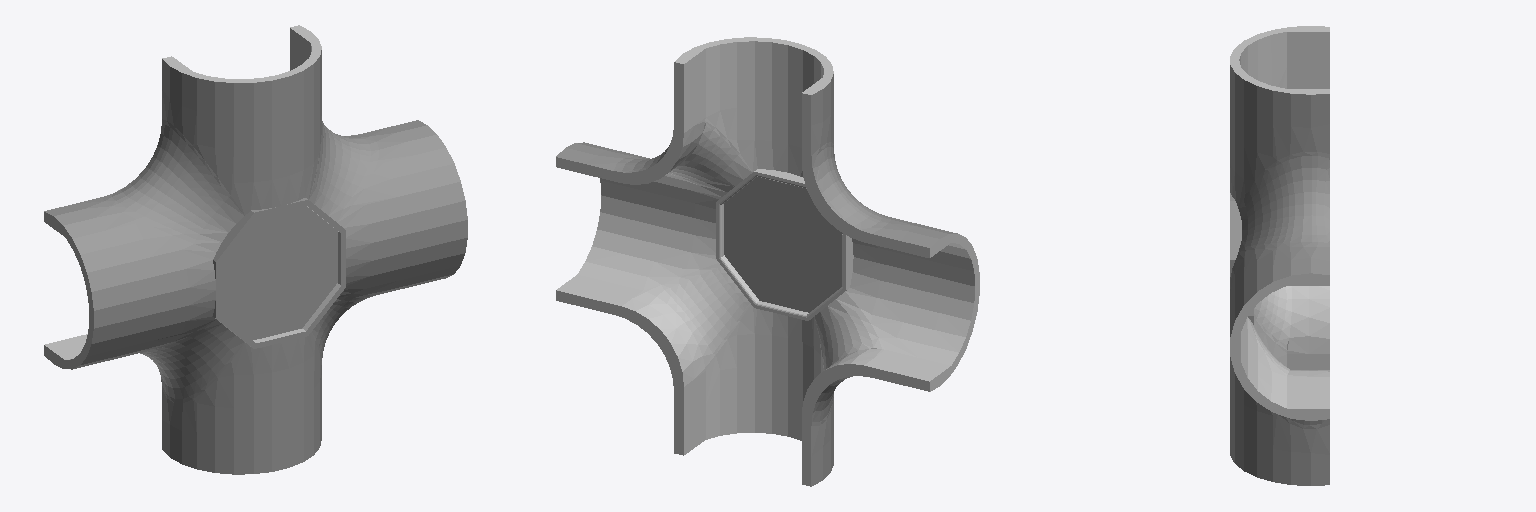
Rendered from X-TubeWindow.obj.
The picture shows the model from 3 angles: view 1: azimuth 30°, elevation 25°; view 2: azimuth 150°, elevation 25°; view 3: azimuth 270°, elevation 25°; orthographic projection.
Parts seen in each view (by area): view 1: X-TubeWindow, X-TubeWindow-Glass; view 2: X-TubeWindow, X-TubeWindow-Glass; view 3: X-TubeWindow.
Part boxes in pixels (bbox=[...]): X-TubeWindow: bbox=[44, 25, 467, 474]; X-TubeWindow-Glass: bbox=[221, 206, 337, 340]; X-TubeWindow: bbox=[556, 37, 979, 486]; X-TubeWindow-Glass: bbox=[724, 177, 841, 312]; X-TubeWindow: bbox=[1230, 26, 1329, 485].
Bounding box in the file's own units: 45 × 45 × 10.5.